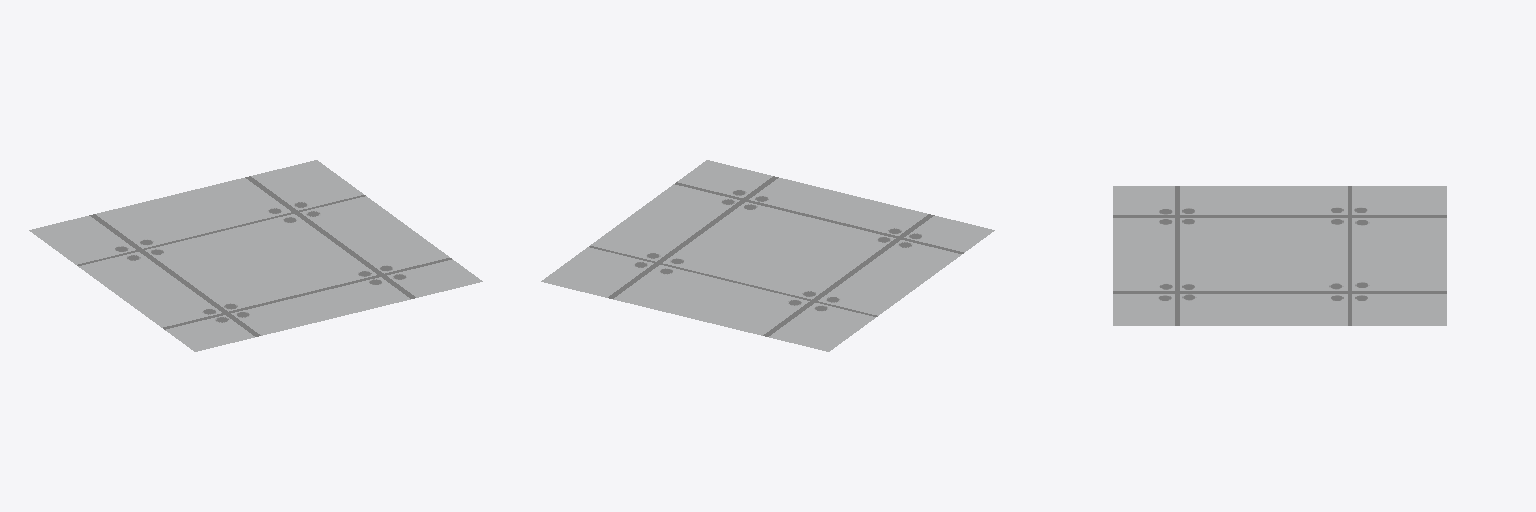
3 renders of one model, left to right at view 1: azimuth 30°, elevation 25°; view 2: azimuth 150°, elevation 25°; view 3: azimuth 270°, elevation 25°, orthographic.
Parts seen in each view (by area): view 1: ground; view 2: ground; view 3: ground.
Boxes of the visible parts, box(x1,y1,x2,y2) form: ground: box(29, 160, 482, 351); ground: box(541, 160, 994, 351); ground: box(1113, 186, 1446, 325).
Bounding box in the file's own units: 300 × 0 × 300.
1 materials, 1 textured.